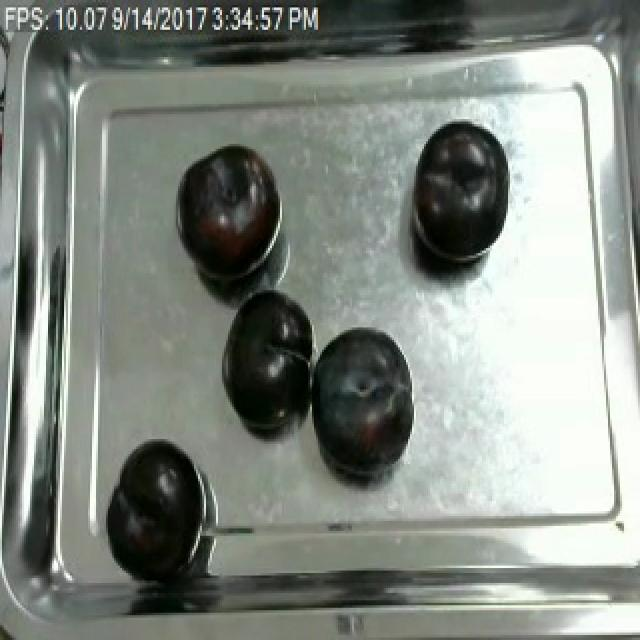Fruit: (304, 317, 418, 478), (406, 116, 514, 273), (100, 436, 212, 586), (216, 283, 318, 437), (176, 142, 282, 280)
